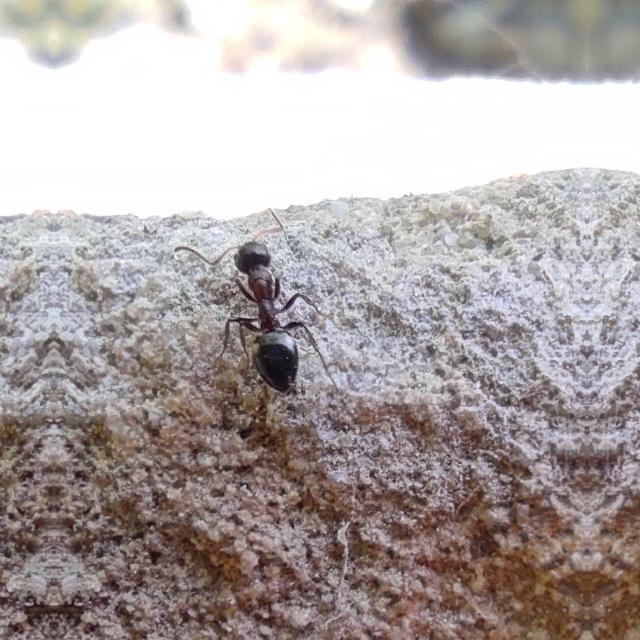Dolichoderus: (211, 208, 325, 402)
